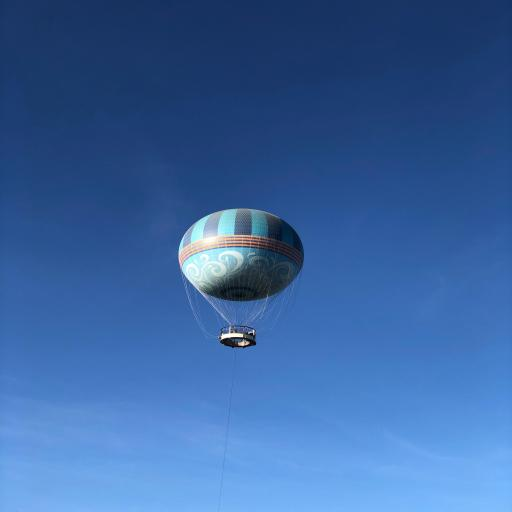hot air ballon: (178, 210, 303, 348)
